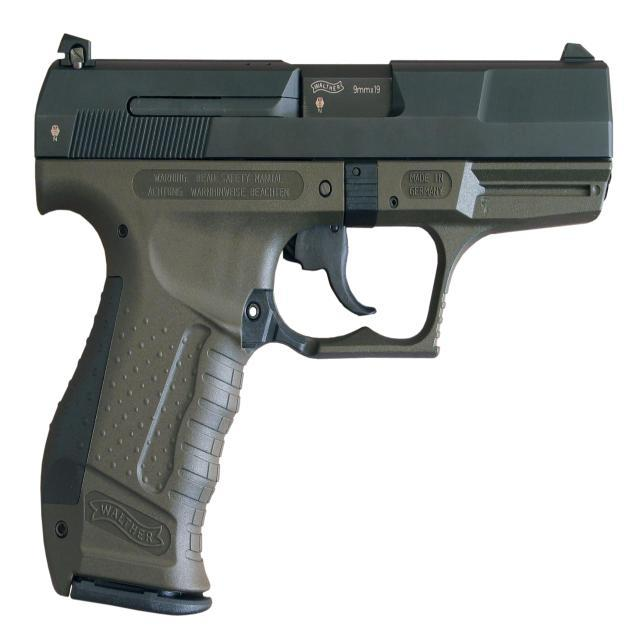Pistol: (16, 10, 626, 640)
